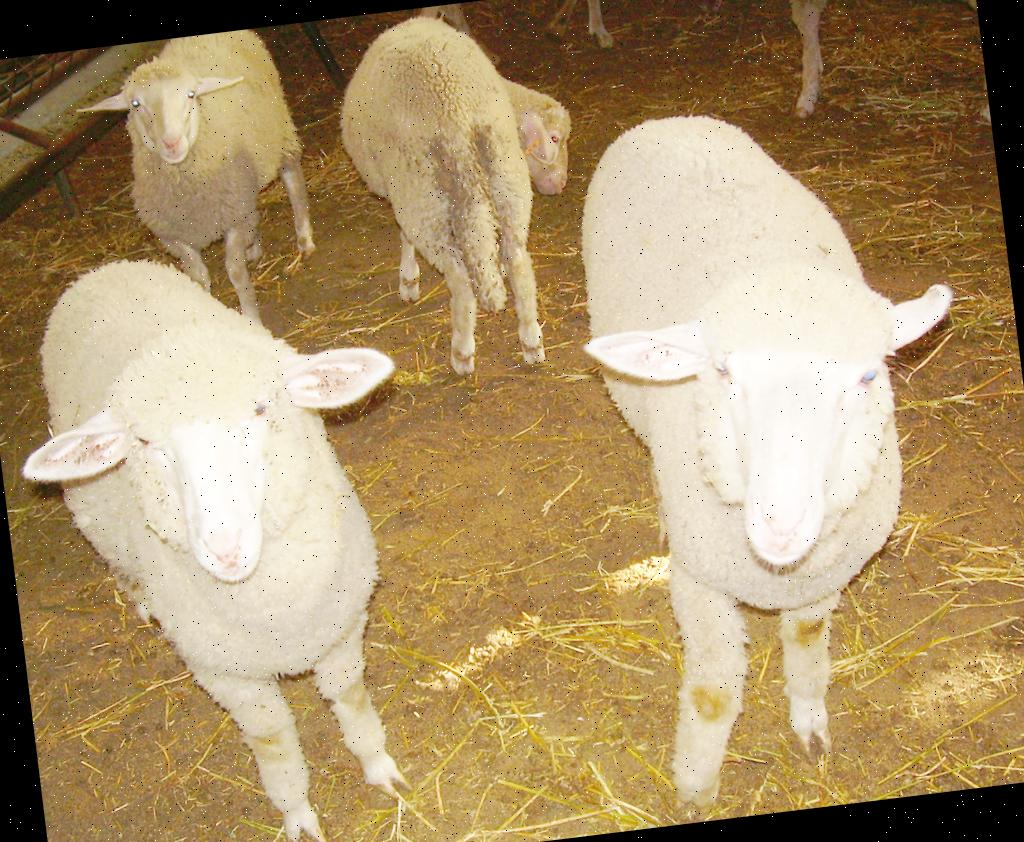Sheep: (554, 84, 1013, 824), (0, 228, 452, 842), (326, 0, 602, 387), (70, 24, 324, 341), (747, 0, 982, 116)
